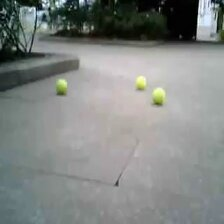tennis: (151, 88, 166, 102), (56, 79, 68, 93), (136, 75, 146, 90)
